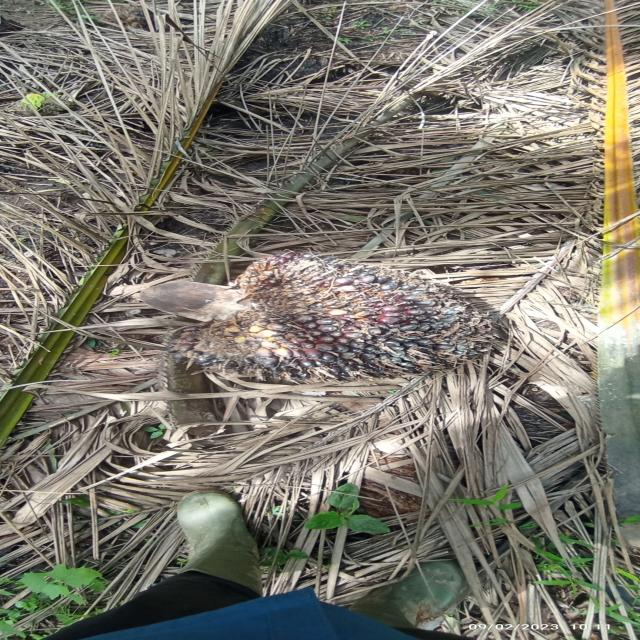fraksi 00: (94, 246, 526, 402)
